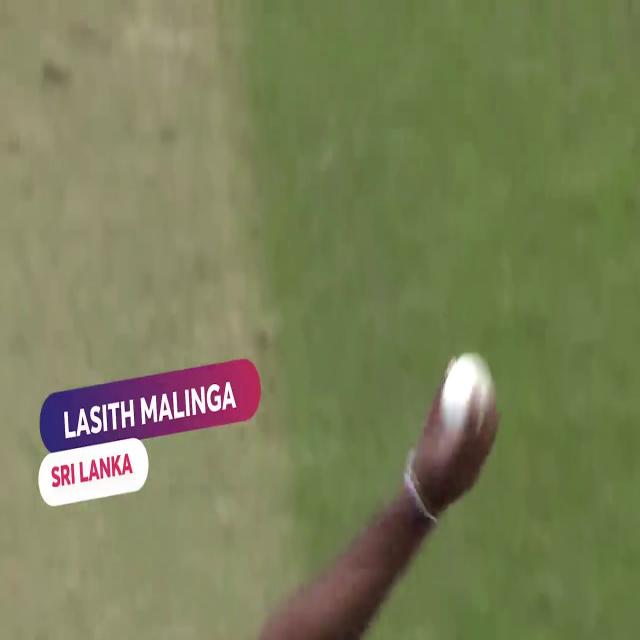ball: (422, 330, 499, 436)
